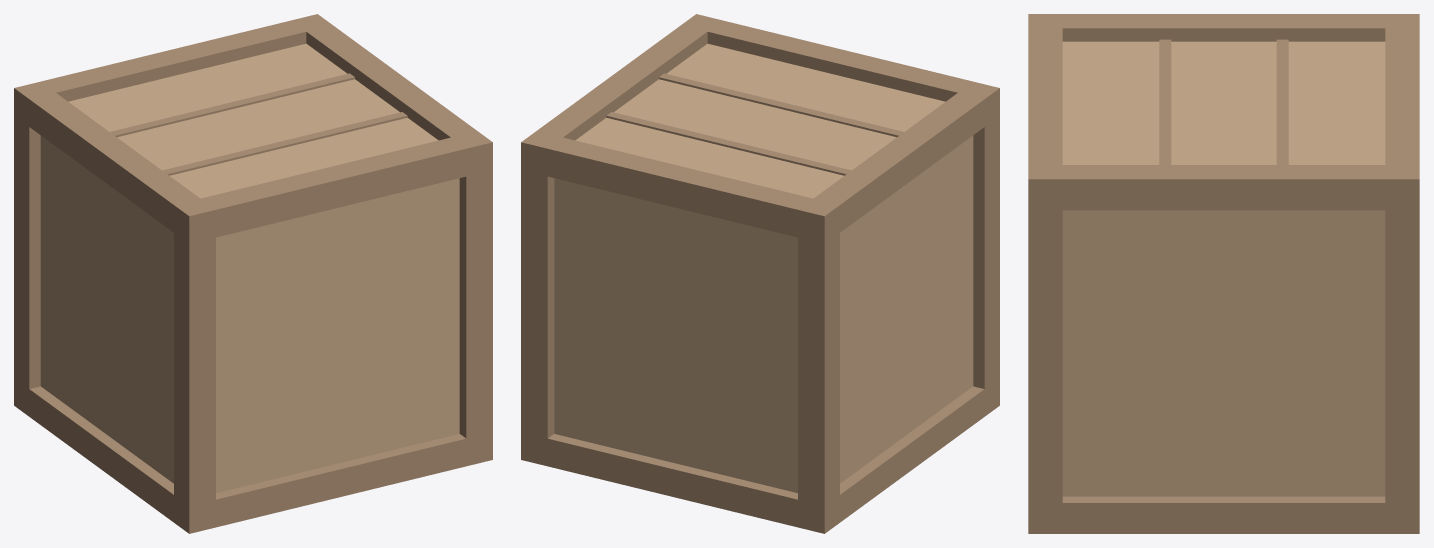
The model's file is crate.glb.
The picture shows the model from 3 angles, left to right: view 1: azimuth 30°, elevation 25°; view 2: azimuth 150°, elevation 25°; view 3: azimuth 270°, elevation 25°; orthographic projection. The views are drawn at different scales.
Visible parts, largest first — view 1: crate; view 2: crate; view 3: crate.
Boxes of the visible parts, x1,y1,x2,y2 form: crate: (14,14,492,533); crate: (521,14,999,533); crate: (1028,14,1419,533).
Size of the model in its own units: 0.8 by 0.8 by 0.8.
